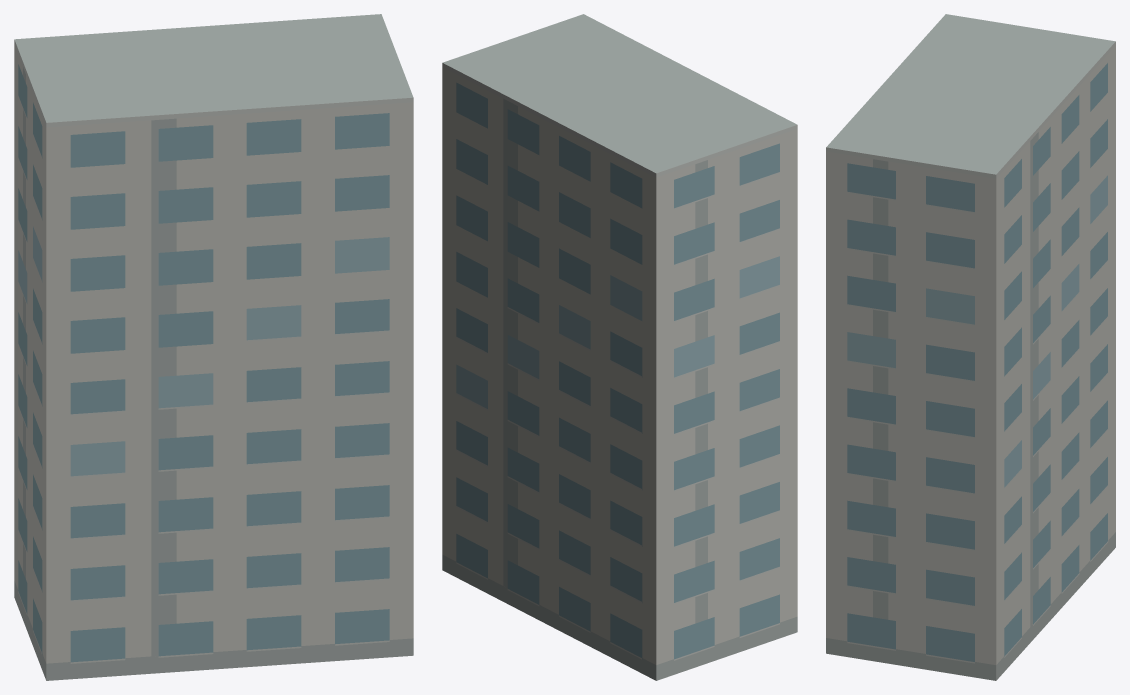
Rendered from residential-47d06544-b5f7-437a-bbd9-98dfa6922b3c.glb.
3 renders of one model, left to right at view 1: azimuth 30°, elevation 25°; view 2: azimuth 150°, elevation 25°; view 3: azimuth 270°, elevation 25°, orthographic. The views are drawn at different scales.
Parts seen in each view (by area): view 1: residential-47d06544-b5f7-437a-bbd9-98dfa6922b3c.tmp; view 2: residential-47d06544-b5f7-437a-bbd9-98dfa6922b3c.tmp; view 3: residential-47d06544-b5f7-437a-bbd9-98dfa6922b3c.tmp.
Part boxes in pixels (x1=…): residential-47d06544-b5f7-437a-bbd9-98dfa6922b3c.tmp: x1=14, y1=14, x2=413, y2=680; residential-47d06544-b5f7-437a-bbd9-98dfa6922b3c.tmp: x1=442, y1=14, x2=797, y2=680; residential-47d06544-b5f7-437a-bbd9-98dfa6922b3c.tmp: x1=826, y1=14, x2=1115, y2=680.
Size of the model in its own units: 19.75 by 29 by 15.05.
